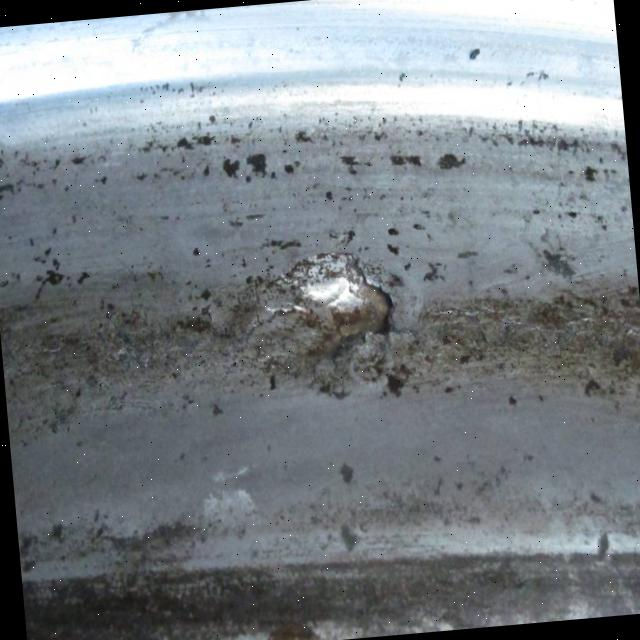Blue hole: (257, 253, 400, 372)
Peeling: (181, 312, 216, 339), (610, 332, 634, 368), (244, 150, 271, 178), (580, 373, 605, 401), (438, 153, 467, 175), (222, 159, 241, 181)
